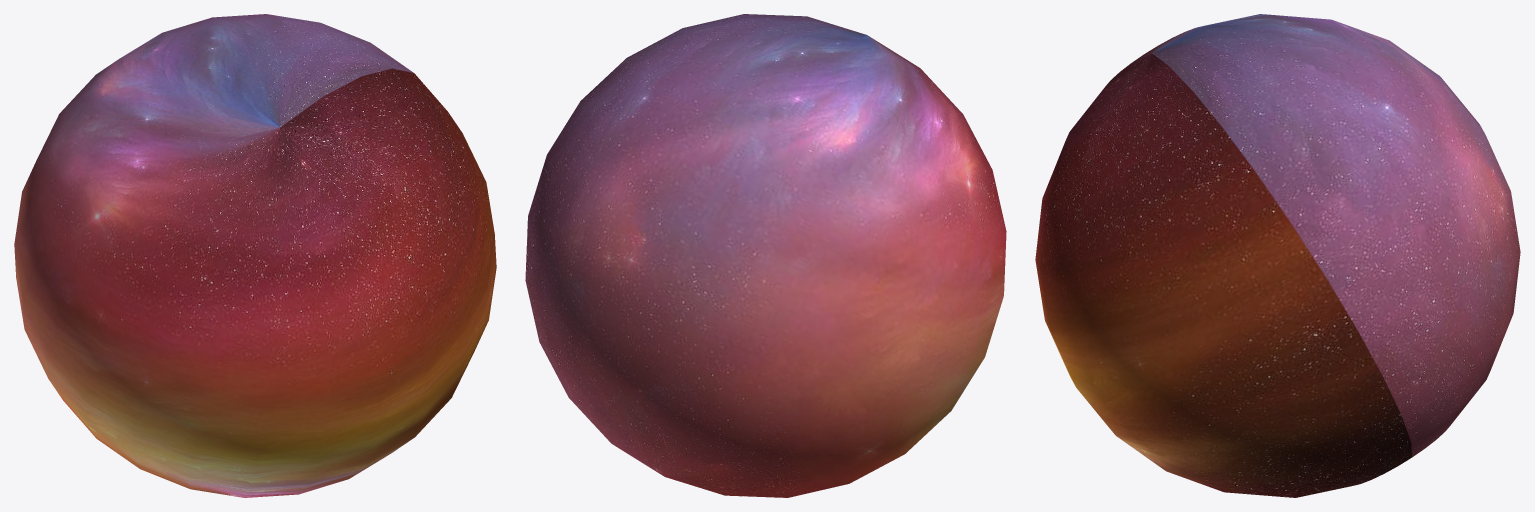
Rendered from sky.fbx.
3 renders of one model, left to right at view 1: azimuth 30°, elevation 25°; view 2: azimuth 150°, elevation 25°; view 3: azimuth 270°, elevation 25°, orthographic.
Visible parts, largest first — view 1: 球体; view 2: 球体; view 3: 球体.
Boxes of the visible parts, x1=… form: 球体: x1=14, y1=14, x2=496, y2=497; 球体: x1=525, y1=14, x2=1006, y2=497; 球体: x1=1035, y1=14, x2=1520, y2=497.
Size of the model in its own units: 10.61 by 10.65 by 10.68.
1 material, 1 textured.
